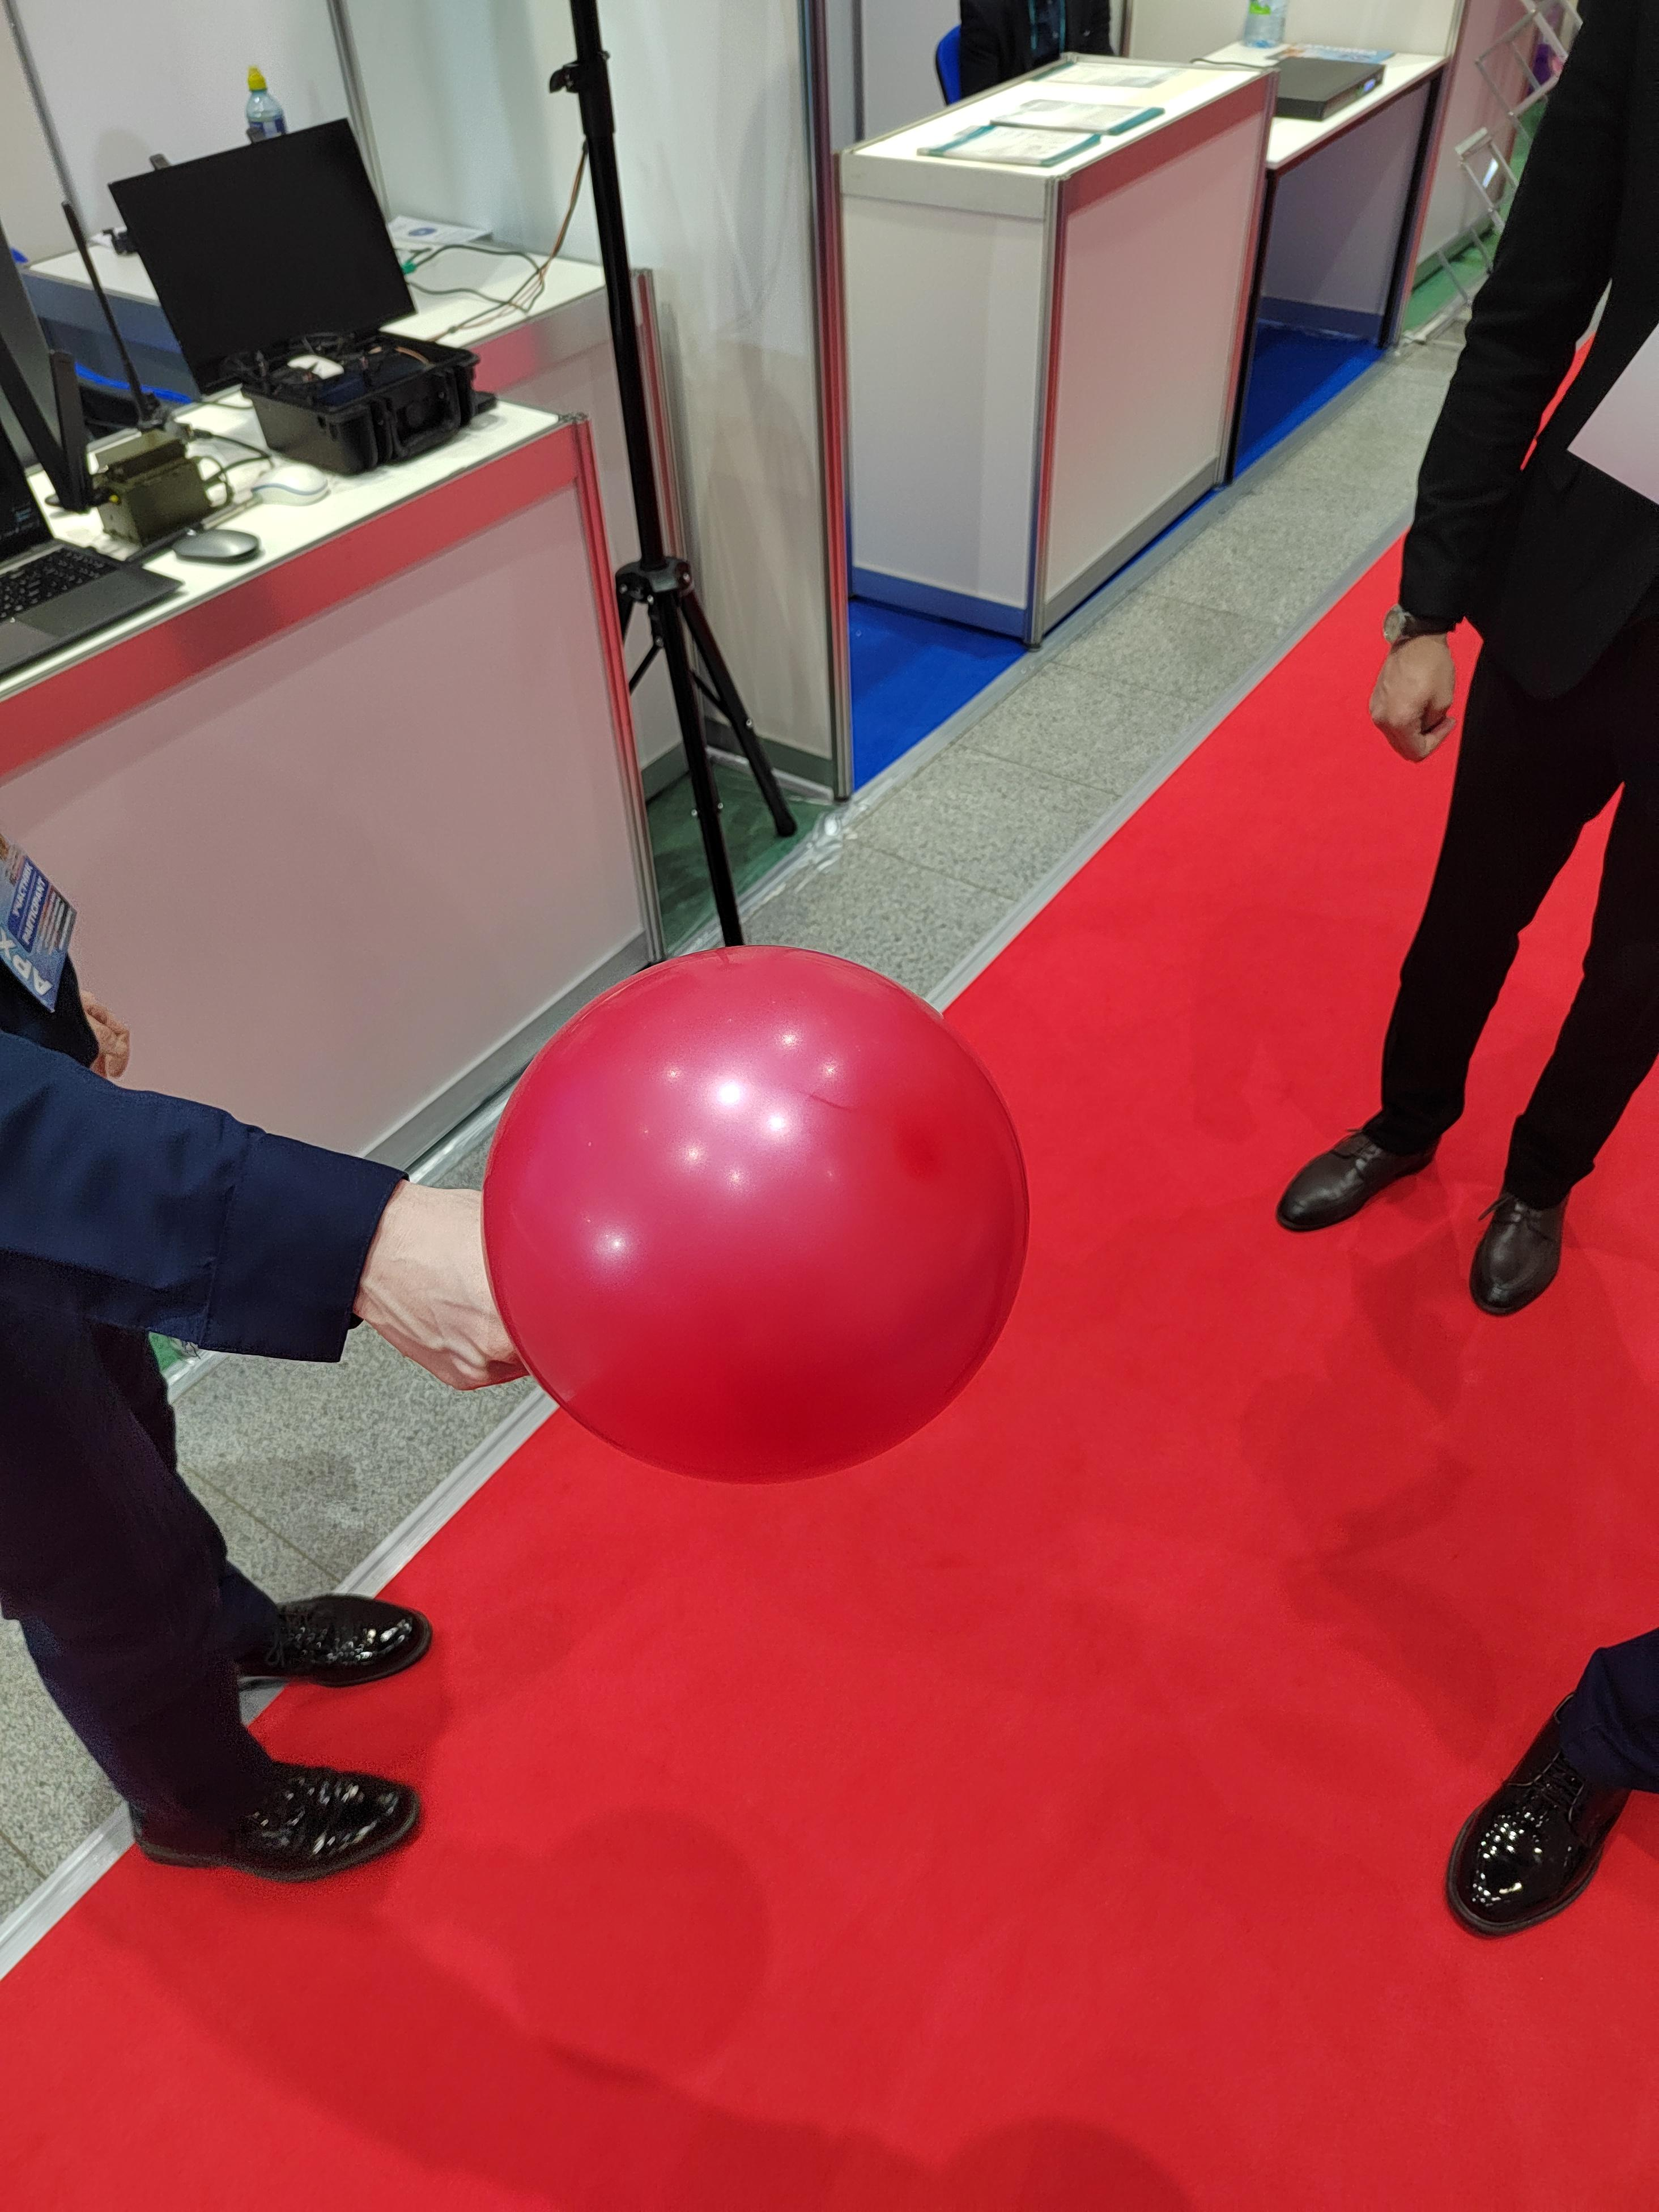red: (473, 918, 1035, 1469)
